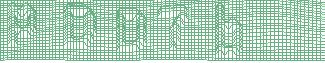7: (155, 3, 190, 50)
D: (61, 1, 99, 51), (113, 5, 149, 54)
b: (212, 2, 245, 59)
p: (5, 1, 39, 51)
